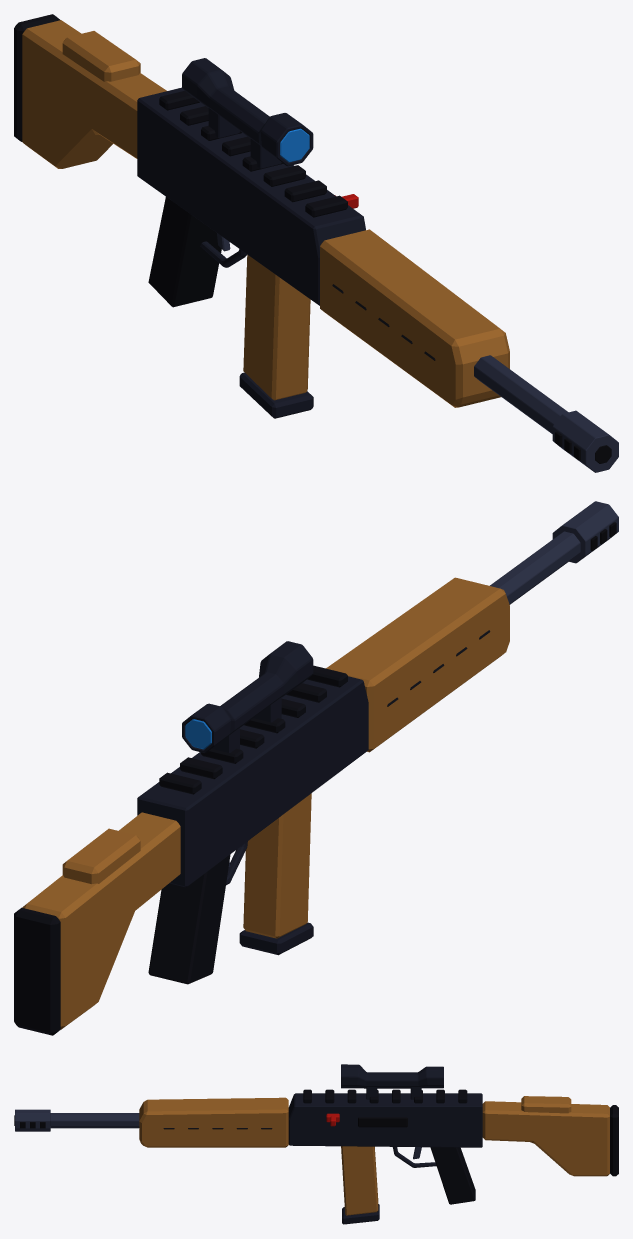
File: myw_battlerifle.obj
3 views of the same model, one above another, from view 1: azimuth 30°, elevation 25°; view 2: azimuth 150°, elevation 25°; view 3: azimuth 270°, elevation 25° (orthographic). The views are drawn at different scales.
Visible parts, largest first — view 1: Furniture, Body, Mag, Scope, Barrel; view 2: Furniture, Body, Mag, Scope, Barrel; view 3: Furniture, Body, Mag, Scope, Barrel.
Boxes of the visible parts, bbox=[...] form: Furniture: bbox=[14, 14, 509, 407]; Body: bbox=[137, 87, 365, 307]; Mag: bbox=[239, 255, 313, 418]; Scope: bbox=[182, 58, 313, 168]; Barrel: bbox=[474, 355, 618, 472]; Furniture: bbox=[14, 577, 509, 1035]; Body: bbox=[137, 665, 368, 984]; Mag: bbox=[239, 793, 313, 955]; Scope: bbox=[182, 641, 313, 752]; Barrel: bbox=[490, 501, 618, 604]; Furniture: bbox=[139, 1096, 618, 1176]; Body: bbox=[288, 1089, 482, 1204]; Mag: bbox=[341, 1146, 379, 1224]; Scope: bbox=[341, 1064, 443, 1099]; Barrel: bbox=[14, 1109, 139, 1131].
Size of the model in its own units: 0.4575 by 1.53 by 5.46.
